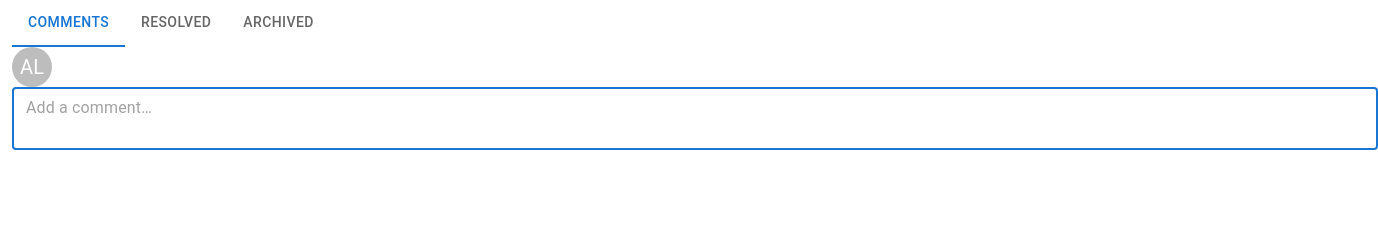
Test case: <CommentsPanel /> › a failed add keeps the composer (text intact) and shows the error
In the text box named "Comment text": (695, 118) x1=26 y1=96 x2=1364 y2=142, type "do not lose this"
Then press Enter
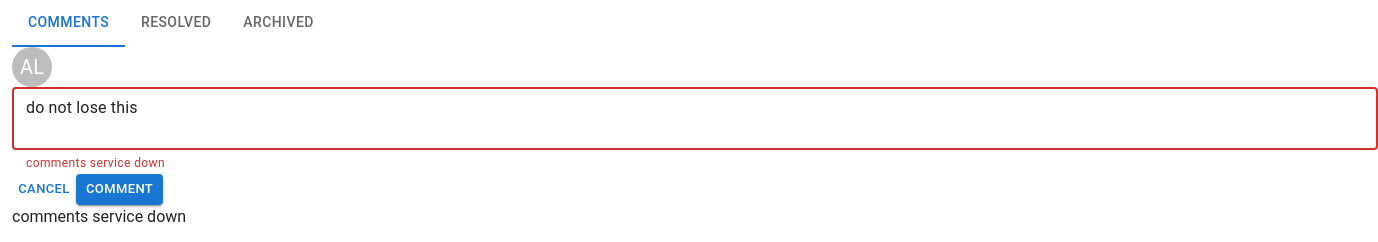
Result: the message reads "comments service down" at x1=12 y1=207 x2=186 y2=226
